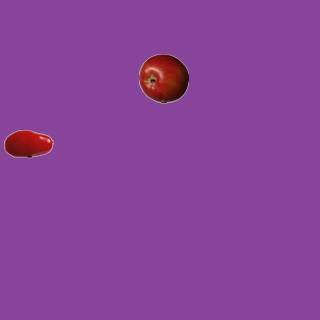Apple Braeburn: (138, 53, 188, 103)
Tomato 2: (3, 118, 53, 168)
